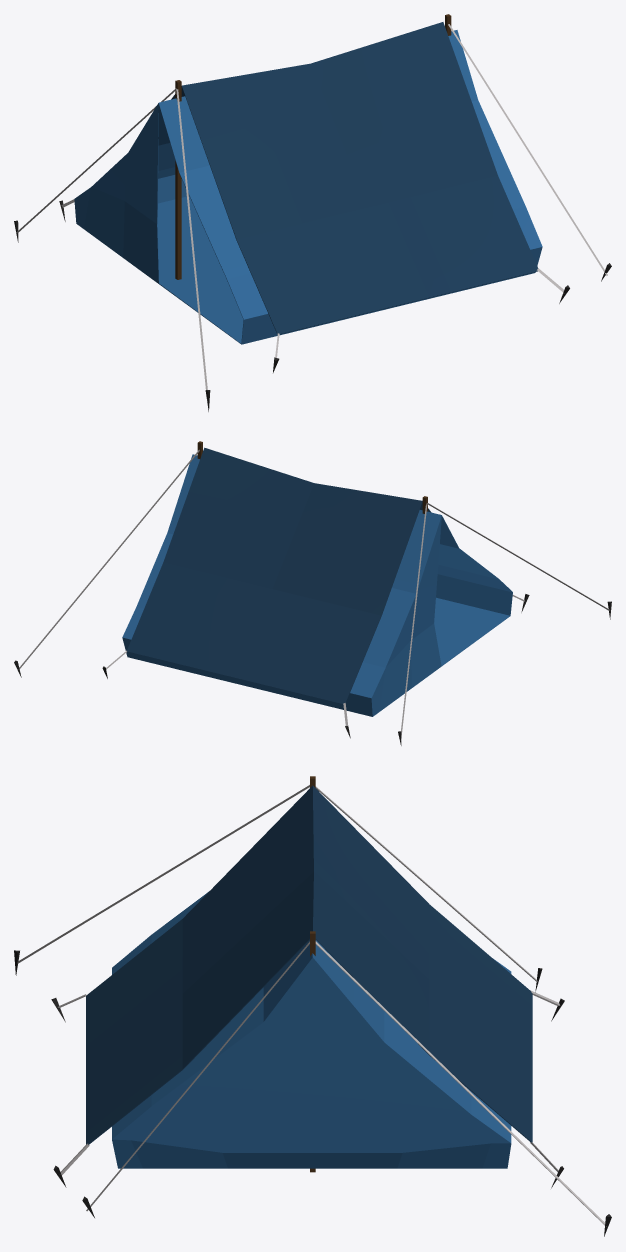
Rendered from TentBlue1.fbx.
3 views of the same model, one above another, from view 1: azimuth 30°, elevation 25°; view 2: azimuth 150°, elevation 25°; view 3: azimuth 270°, elevation 25° (orthographic). The views are drawn at different scales.
Visible parts, largest first — view 1: Tent; view 2: Tent; view 3: Tent.
Part boxes in pixels (<box>): Tent: <box>14,14,611,411</box>; Tent: <box>14,441,611,745</box>; Tent: <box>14,776,611,1236</box>.
Size of the model in its own units: 365 by 163 by 346.
1 material, 1 textured.
